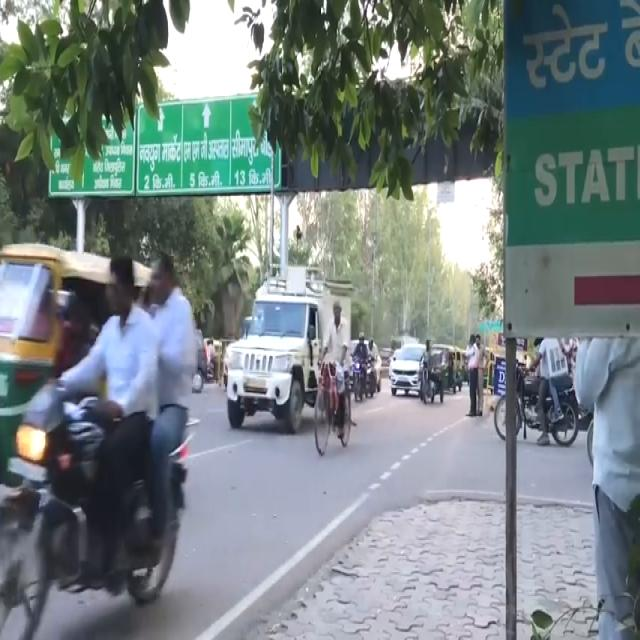TRUCK: (221, 283, 323, 442)
